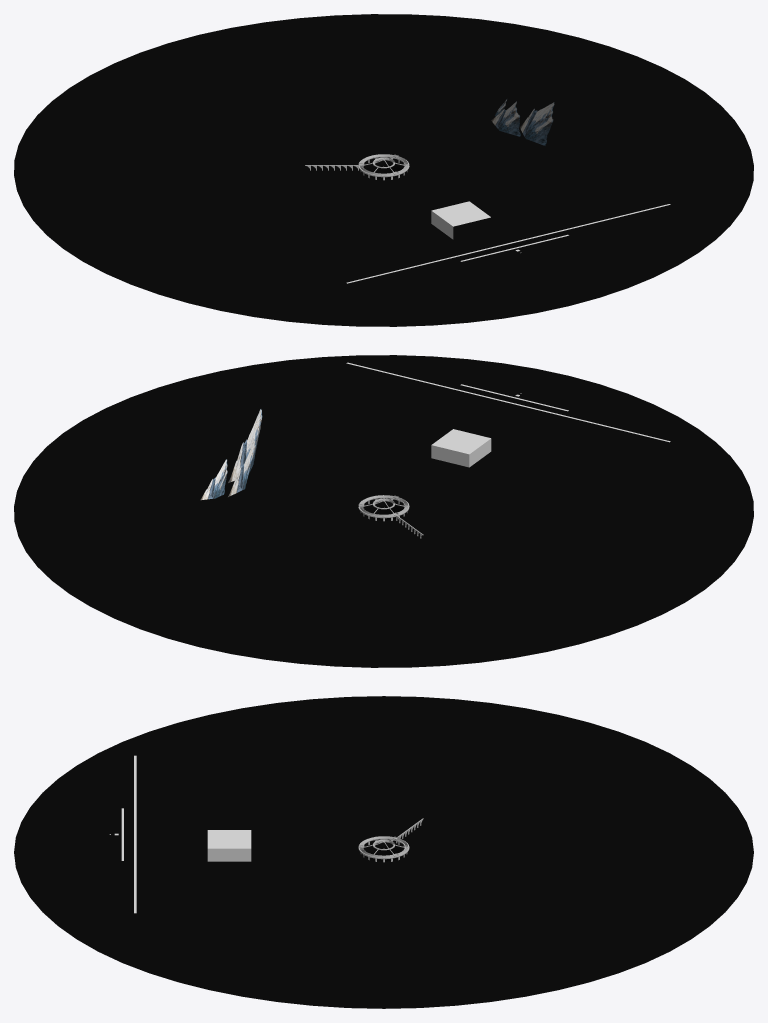
Rendered from eightfold_world_layout.gltf.
3 views of the same model, one above another, from view 1: azimuth 30°, elevation 25°; view 2: azimuth 150°, elevation 25°; view 3: azimuth 270°, elevation 25° (orthographic).
Parts seen in each view (by area): view 1: great_ocean, black_mountain, pearlescant_haven, 300KM-noimp; view 2: great_ocean, pearlescant_haven, black_mountain, 300KM-noimp; view 3: great_ocean, pearlescant_haven.
Boxes of the visible parts, x1,y1,x2,y2 form: great_ocean: (14,14,753,326); black_mountain: (491,99,554,145); pearlescant_haven: (431,201,490,239); 300KM-noimp: (346,204,670,283); great_ocean: (14,355,753,667); pearlescant_haven: (431,429,491,467); black_mountain: (200,409,262,500); 300KM-noimp: (346,362,670,442); great_ocean: (14,696,753,1008); pearlescant_haven: (207,830,251,861).
Bounding box in the file's own units: 59.51 × 6.72 × 59.51.
